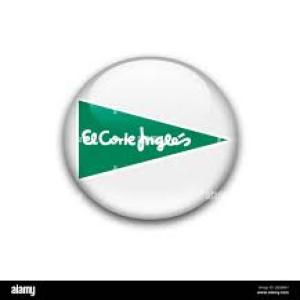corte_ingles: (80, 117, 193, 157)
